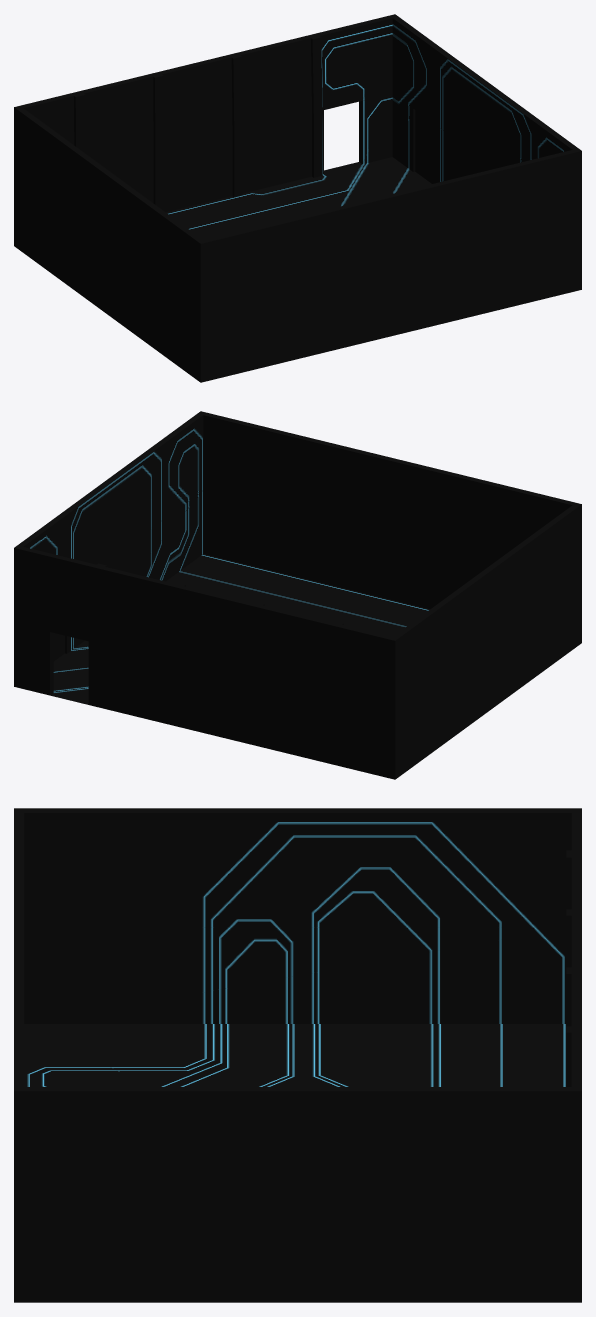
The model's file is 001_room.fbx.
3 renders of one model, top to bottom at view 1: azimuth 30°, elevation 25°; view 2: azimuth 150°, elevation 25°; view 3: azimuth 270°, elevation 25°, orthographic. The views are drawn at different scales.
Visible parts, largest first — view 1: pCube1; view 2: pCube1; view 3: pCube1.
Part boxes in pixels (x1=…): pCube1: x1=14, y1=14, x2=581, y2=382; pCube1: x1=14, y1=411, x2=581, y2=779; pCube1: x1=14, y1=808, x2=581, y2=1302.
Bounding box in the file's own units: 14.66 × 5.1 × 12.44.
